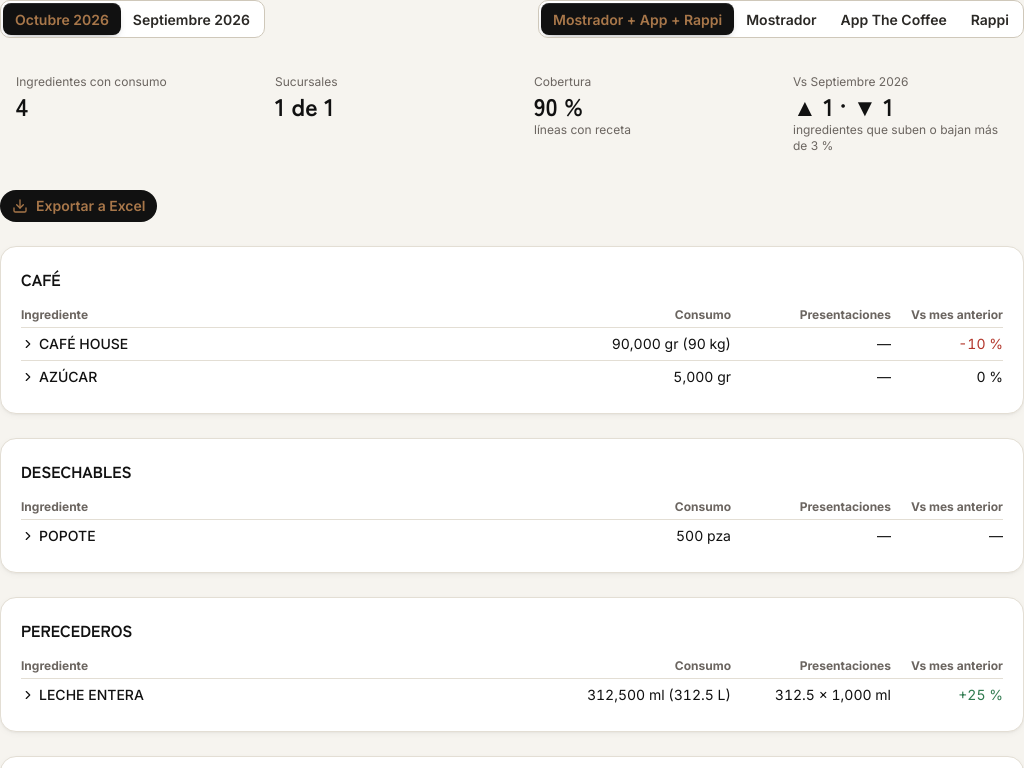
Test: pestaña Consumo del Tablero México › cambia de mes sin perder la barra, muestra el mes nuevo y abre el desglose
This screenshot has width=1024, height=768.
Click the radio button labelled "Septiembre 2026" at coordinates (191, 19), box [121,3,262,35]
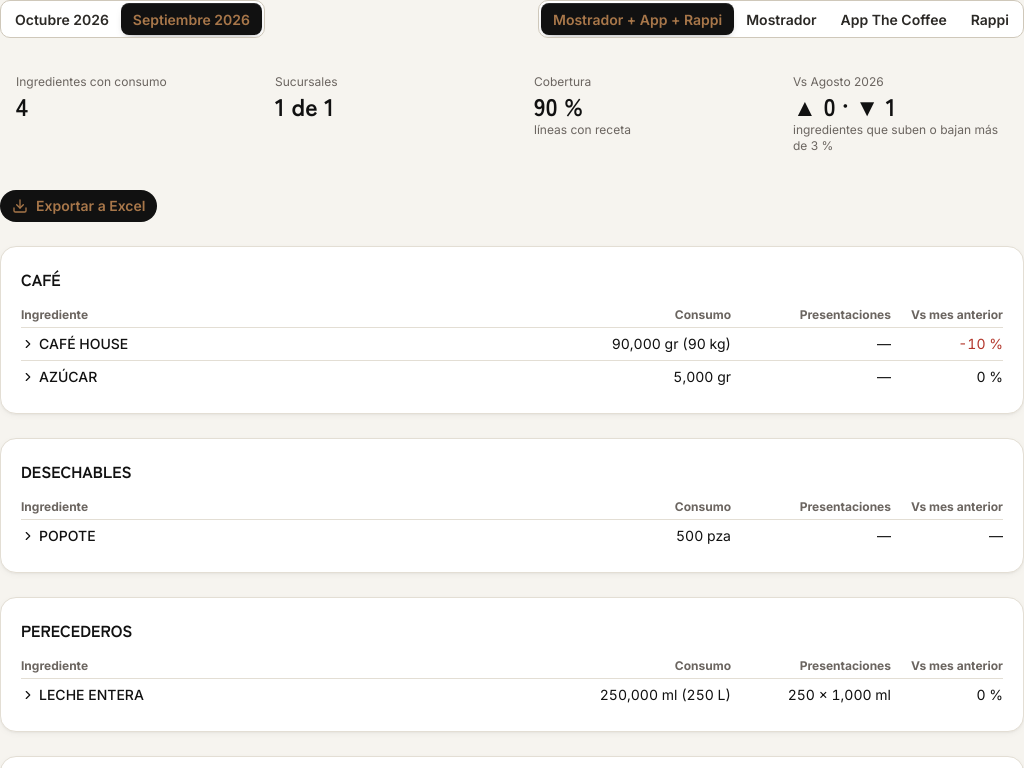
expect the radio button labelled "Septiembre 2026" is checked: met, box [121,3,262,35]
expect the radio button labelled "Octubre 2026" is not checked: met, box [3,3,121,35]
Click the button "LECHE ENTERA" at coordinates (82, 695), box [21,685,144,705]
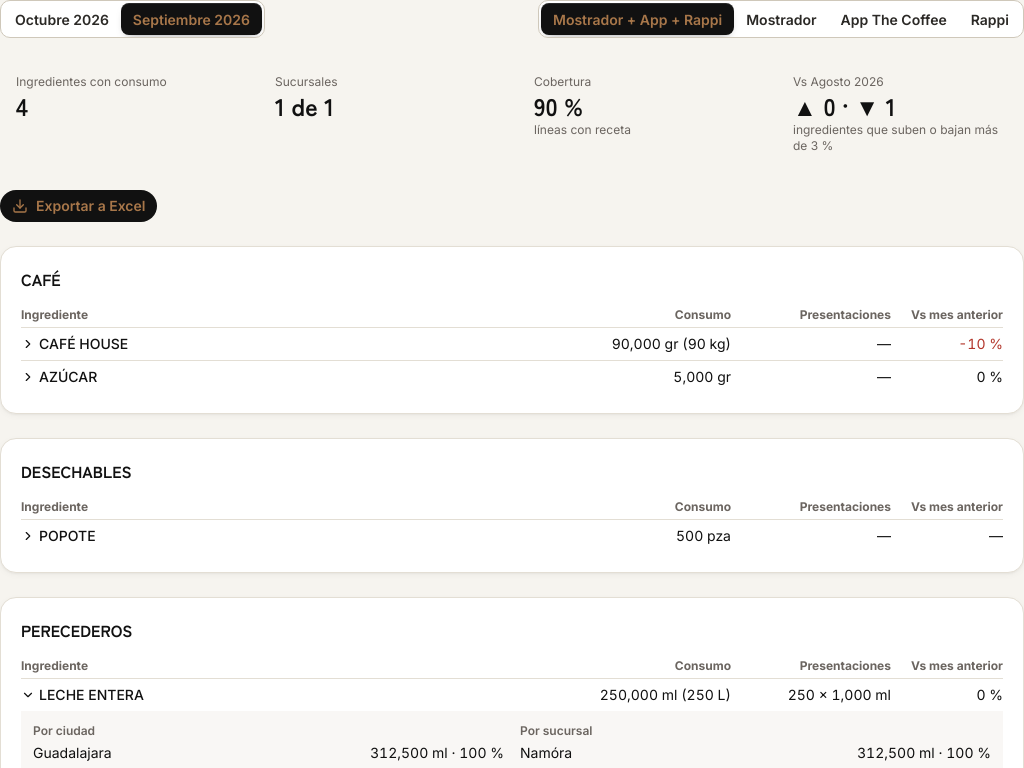
expect the text "Namóra" is shown: met, box [520,743,572,763]
expect the text "Guadalajara" is shown: met, box [33,743,112,763]
